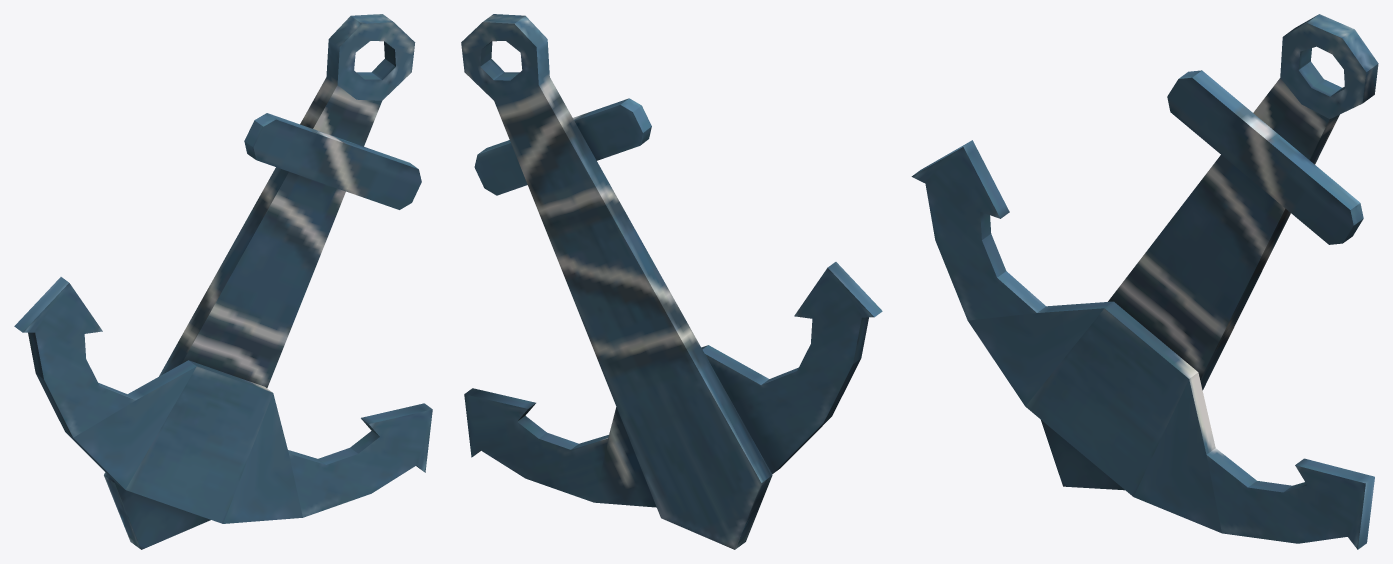
Rendered from furni_0200073_01.FBX.
3 views of the same model, side by side, from view 1: azimuth 30°, elevation 25°; view 2: azimuth 150°, elevation 25°; view 3: azimuth 330°, elevation 25° (orthographic). The views are drawn at different scales.
Parts seen in each view (by area): view 1: furni_0200073; view 2: furni_0200073; view 3: furni_0200073.
Part boxes in pixels (box(x1,y1,x2,y2)): furni_0200073: box(14, 14, 432, 549); furni_0200073: box(461, 14, 882, 549); furni_0200073: box(911, 14, 1378, 549).
Size of the model in its own units: 57 by 62.71 by 4.83.
